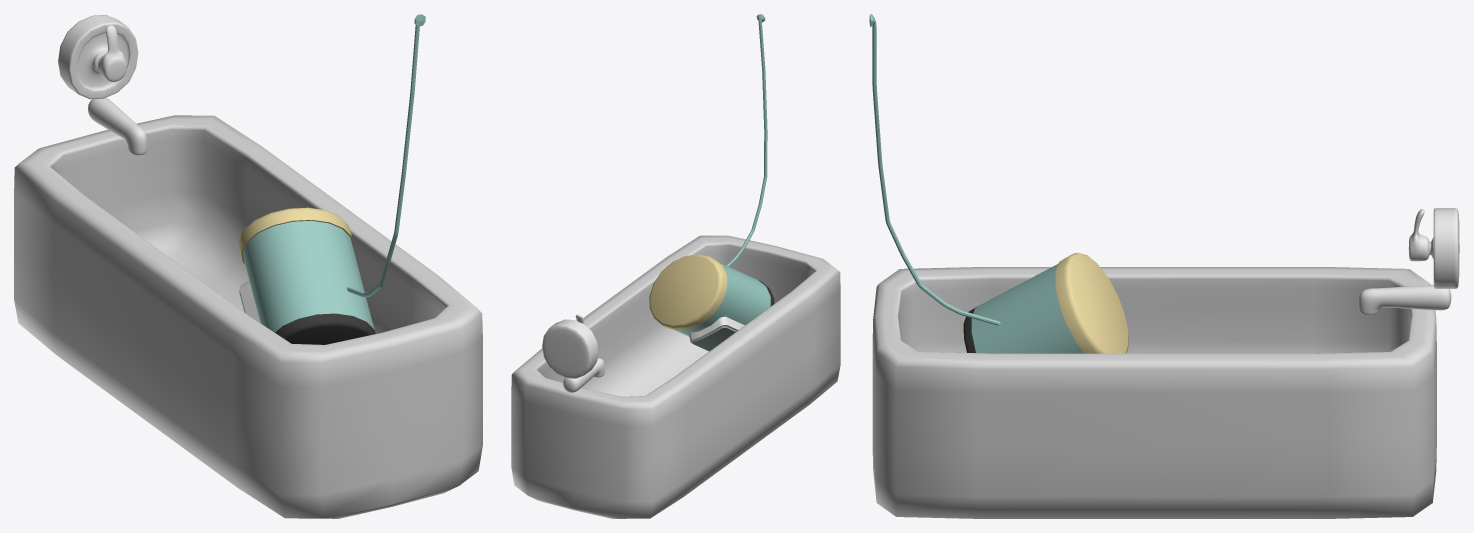
File: tub & geyser.fbx
The picture shows the model from 3 angles, left to right: view 1: azimuth 30°, elevation 25°; view 2: azimuth 150°, elevation 25°; view 3: azimuth 270°, elevation 25°; orthographic projection. The views are drawn at different scales.
Visible parts, largest first — view 1: Tub, geyser, Sink.002, Sink.004, geyser.001; view 2: Tub, geyser, Sink.002, geyser.001, Sink.004; view 3: Tub, geyser, Sink.002, Sink.004, geyser.001.
Boxes of the visible parts, left/top/right/bottom form: Tub: left=14, top=115, right=482, bottom=518; geyser: left=238, top=207, right=375, bottom=344; Sink.002: left=58, top=14, right=138, bottom=99; Sink.004: left=88, top=98, right=146, bottom=155; geyser.001: left=347, top=14, right=425, bottom=297; Tub: left=511, top=235, right=840, bottom=518; geyser: left=649, top=254, right=774, bottom=351; Sink.002: left=542, top=314, right=598, bottom=378; geyser.001: left=726, top=14, right=767, bottom=266; Sink.004: left=563, top=358, right=604, bottom=392; Tub: left=872, top=267, right=1436, bottom=518; geyser: left=963, top=252, right=1128, bottom=353; Sink.002: left=1408, top=208, right=1459, bottom=288; Sink.004: left=1358, top=285, right=1451, bottom=315; geyser.001: left=869, top=14, right=1000, bottom=325.
Bounding box in the file's own units: 295 × 655 × 739.
